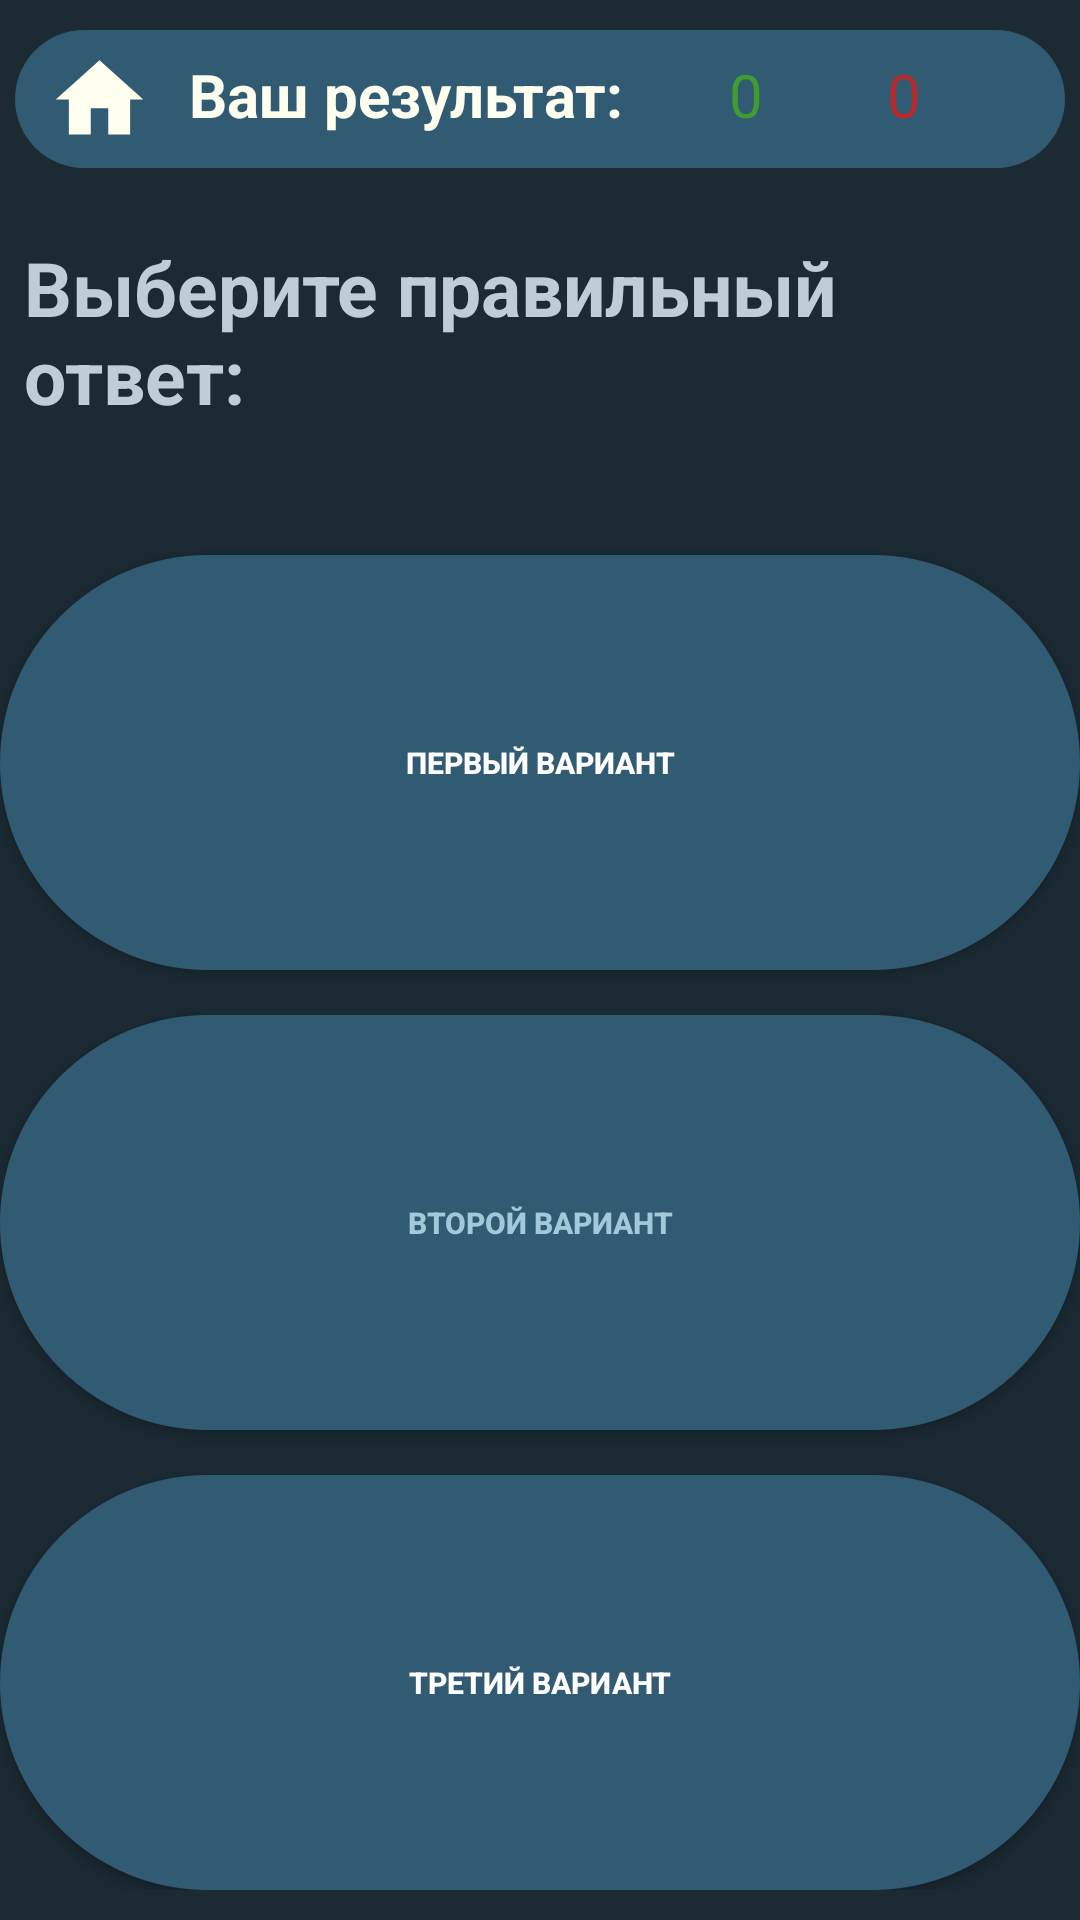

Screen size 1080*1920. Icon name, then its box in pixels as BBox(x1, y1, x2, y2):
home: BBox(56, 60, 143, 135)
